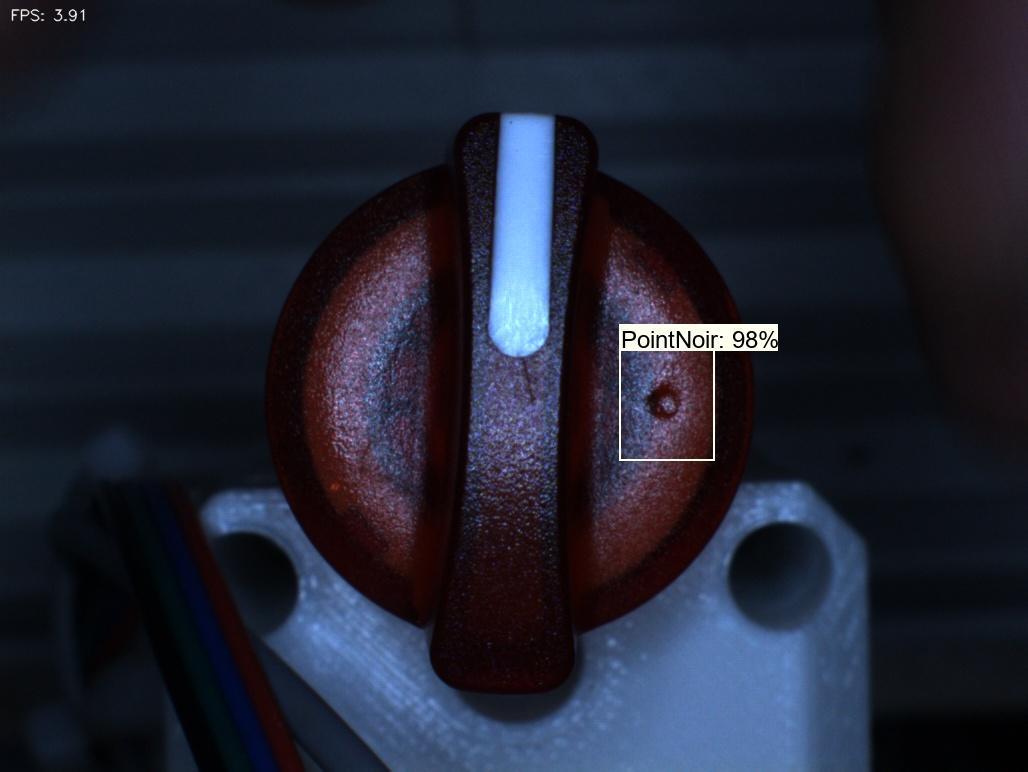Choc: (625, 353, 709, 450)
